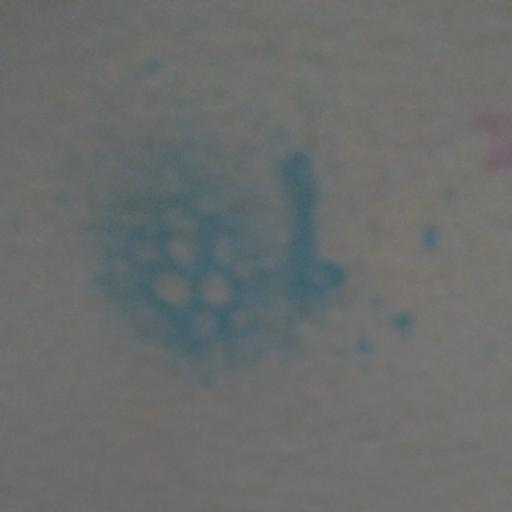stain: (64, 49, 460, 386), (474, 87, 512, 203)
